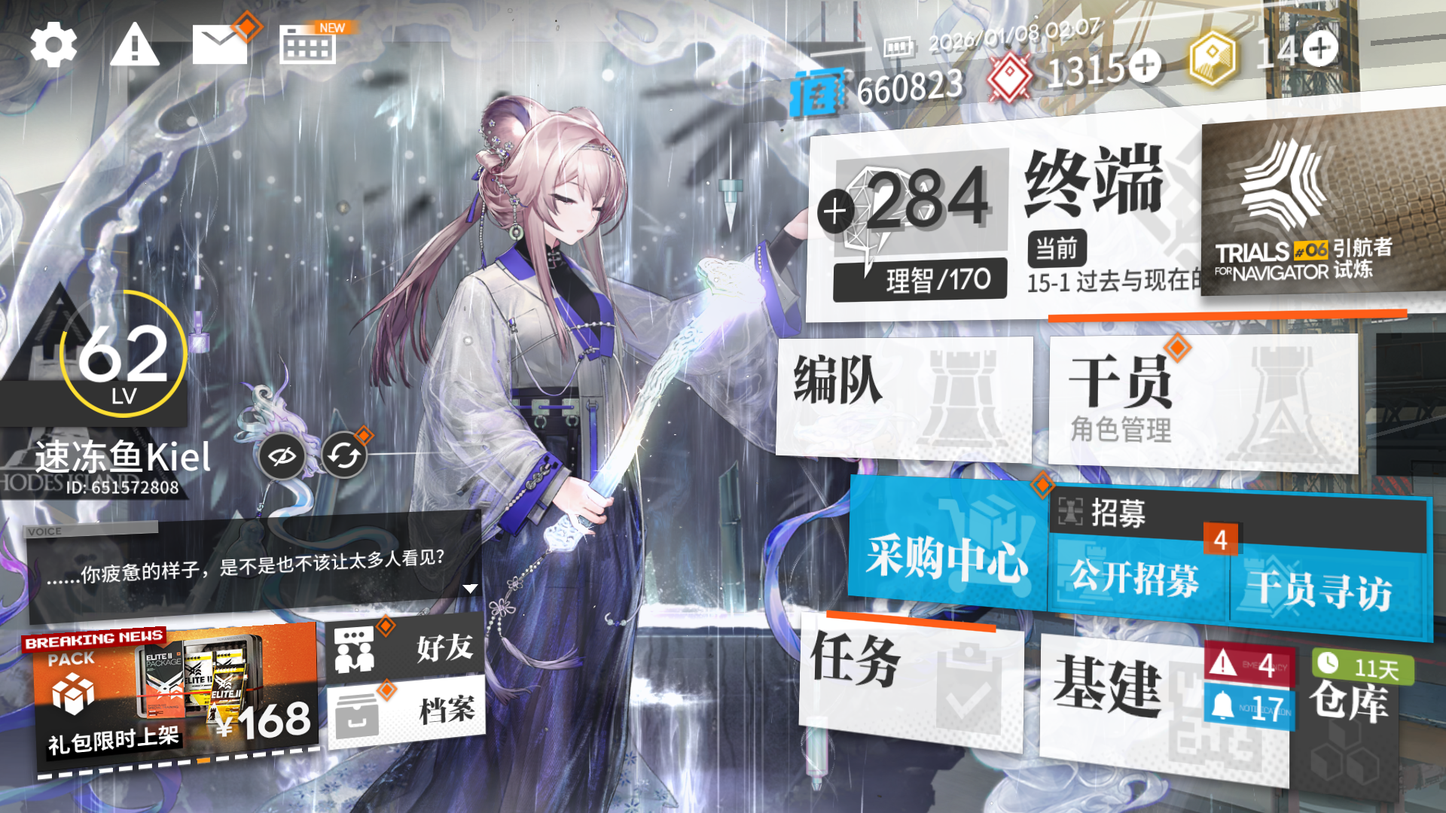home_button: (1007, 130, 1192, 227)
infrastructure_button: (1037, 637, 1307, 776)
